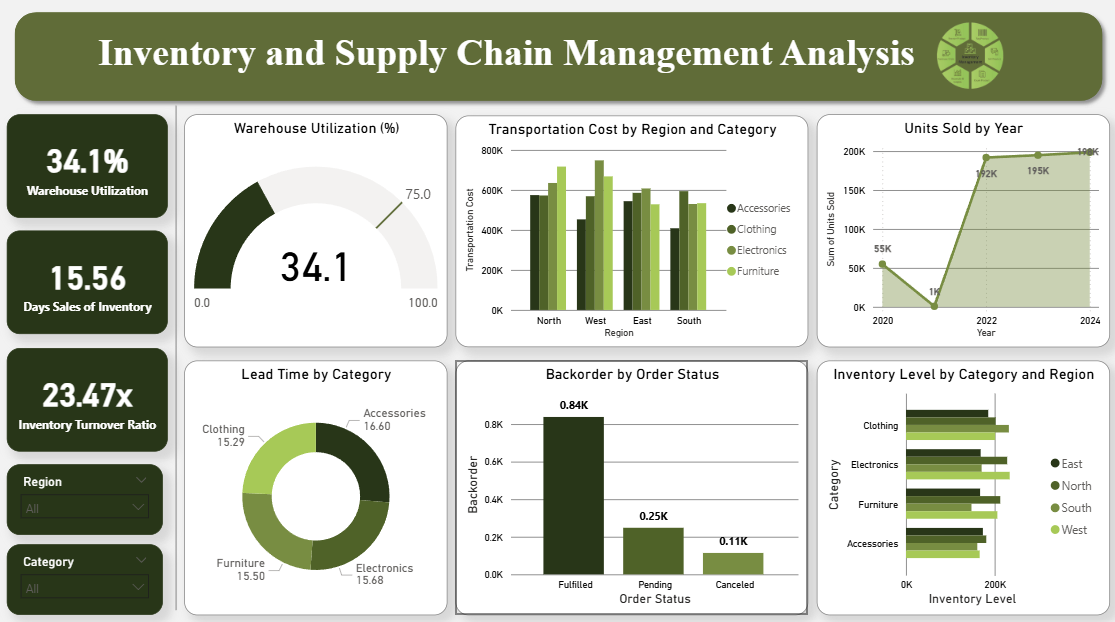

What the dashboard file says about the page in this screenshot:
{"tool":"powerbi","page":{"name":"Page 1","canvas":[1280,720],"ordinal":0},"visuals":[{"type":"shape","box":[9.6,6.9,1261.1,119.4],"z":0},{"type":"textbox","box":[39.8,32.9,1071.7,68.6],"z":3000},{"type":"image","box":[1036.2,15.4,150.8,100.8],"z":4000},{"type":"shape","box":[188.5,123.1,30,576.9],"z":5000},{"type":"card","fields":{"Values":["Inventory and Supply Chain Dataset.Warehouse Utilization"]},"box":[9.6,133.1,183.9,118],"z":8000},{"type":"card","fields":{"Values":["Inventory and Supply Chain Dataset.Days Sales of Inventory"]},"box":[9.6,266.2,183.9,118],"z":10000},{"type":"card","fields":{"Values":["Inventory and Supply Chain Dataset.Inventory Turnover Ratio"]},"box":[9.6,399.3,183.9,118],"z":11000},{"type":"slicer","fields":{"Values":["Inventory and Supply Chain Dataset.Region"]},"box":[9.6,532.4,178.4,81],"z":14000},{"type":"slicer","fields":{"Values":["Inventory and Supply Chain Dataset.Category"]},"box":[9.6,624.4,178.4,81],"z":17000},{"type":"gauge","fields":{"Y":["Inventory and Supply Chain Dataset.Warehouse Utilization G"]},"box":[212.7,133.1,300.5,266.2],"z":18000},{"type":"clusteredColumnChart","fields":{"Y":["Sum(Inventory and Supply Chain Dataset.Transportation Cost)"],"Series":["Inventory and Supply Chain Dataset.Category"],"Category":["Inventory and Supply Chain Dataset.Region"]},"box":[522.8,134.5,403.4,264.8],"z":20000},{"type":"lineChart","title":"Units Sold by Year","fields":{"Category":["Inventory and Supply Chain Dataset.Date.Variation.Date Hierarchy.Year"],"Y":["Sum(Inventory and Supply Chain Dataset.Units Sold)"]},"box":[935.9,133.1,334.8,266.2],"z":21000},{"type":"donutChart","fields":{"Y":["Avg(Inventory and Supply Chain Dataset.Lead Time)"],"Category":["Inventory and Supply Chain Dataset.Category"]},"box":[212.7,414.4,300.5,290.9],"z":24000},{"type":"columnChart","fields":{"Y":["CountNonNull(Inventory and Supply Chain Dataset.Backorder)"],"Category":["Inventory and Supply Chain Dataset.Order Status"]},"box":[523,414,403,291],"z":25000},{"type":"clusteredBarChart","fields":{"Y":["Sum(Inventory and Supply Chain Dataset.Inventory Level)"],"Category":["Inventory and Supply Chain Dataset.Category"],"Series":["Inventory and Supply Chain Dataset.Region"]},"box":[935.9,414.4,334.8,290.9],"z":26000}]}

Visuals, with their boxes in screenshot pixels (x1, y1, x2, y2), scaled from the page's 1280x720 canvas onto the 1115x622 screenshot:
shape: box(8, 6, 1107, 109)
textbox: box(35, 28, 968, 88)
image: box(903, 13, 1034, 100)
shape: box(164, 106, 190, 605)
card - Inventory and Supply Chain Dataset.Warehouse Utilization: box(8, 115, 169, 217)
card - Inventory and Supply Chain Dataset.Days Sales of Inventory: box(8, 230, 169, 332)
card - Inventory and Supply Chain Dataset.Inventory Turnover Ratio: box(8, 345, 169, 447)
slicer - Inventory and Supply Chain Dataset.Region: box(8, 460, 164, 530)
slicer - Inventory and Supply Chain Dataset.Category: box(8, 539, 164, 609)
gauge - Inventory and Supply Chain Dataset.Warehouse Utilization G: box(185, 115, 447, 345)
clusteredColumnChart - Sum(Inventory and Supply Chain Dataset.Transportation Cost) x Inventory and Supply Chain Dataset.Category: box(455, 116, 807, 345)
"Units Sold by Year" lineChart: box(815, 115, 1107, 345)
donutChart - Avg(Inventory and Supply Chain Dataset.Lead Time) x Inventory and Supply Chain Dataset.Category: box(185, 358, 447, 609)
columnChart - CountNonNull(Inventory and Supply Chain Dataset.Backorder) x Inventory and Supply Chain Dataset.Order Status: box(456, 358, 807, 609)
clusteredBarChart - Sum(Inventory and Supply Chain Dataset.Inventory Level) x Inventory and Supply Chain Dataset.Category: box(815, 358, 1107, 609)
